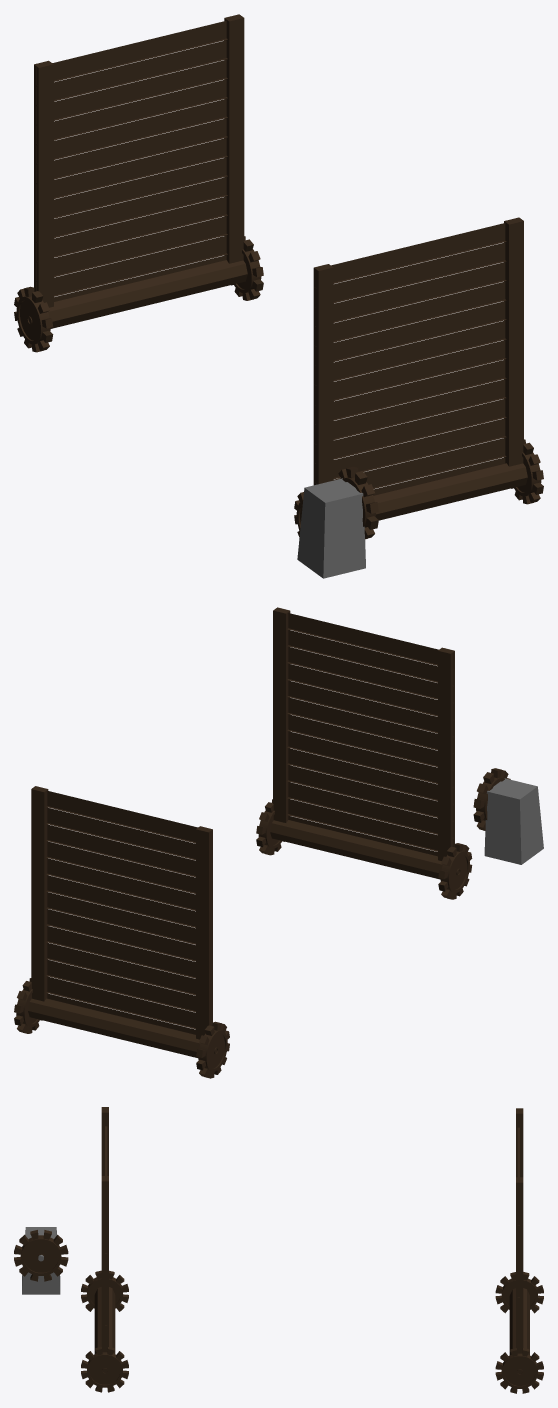
Rendered from Jembatan Gear.fbx.
3 renders of one model, top to bottom at view 1: azimuth 30°, elevation 25°; view 2: azimuth 150°, elevation 25°; view 3: azimuth 270°, elevation 25°, orthographic. The views are drawn at different scales.
Visible parts, largest first — view 1: Jembatan 02, Jembatan 01, Tempat Katrol, Gear; view 2: Jembatan 02, Jembatan 01, Tempat Katrol, Gear; view 3: Jembatan 01, Jembatan 02, Gear, Tempat Katrol.
Part boxes in pixels (x1,y1,x2,y2): Jembatan 02: (14,14,263,352); Jembatan 01: (294,217,543,537); Tempat Katrol: (297,478,365,578); Gear: (336,466,378,539); Jembatan 02: (14,786,229,1078); Jembatan 01: (256,607,472,899); Tempat Katrol: (484,778,543,864); Gear: (473,768,510,830); Jembatan 01: (81,1107,128,1392); Jembatan 02: (495,1108,543,1393); Gear: (14,1230,68,1281); Tempat Katrol: (22,1227,60,1294).
Bounding box in the file's own units: 363 × 376 × 859.
